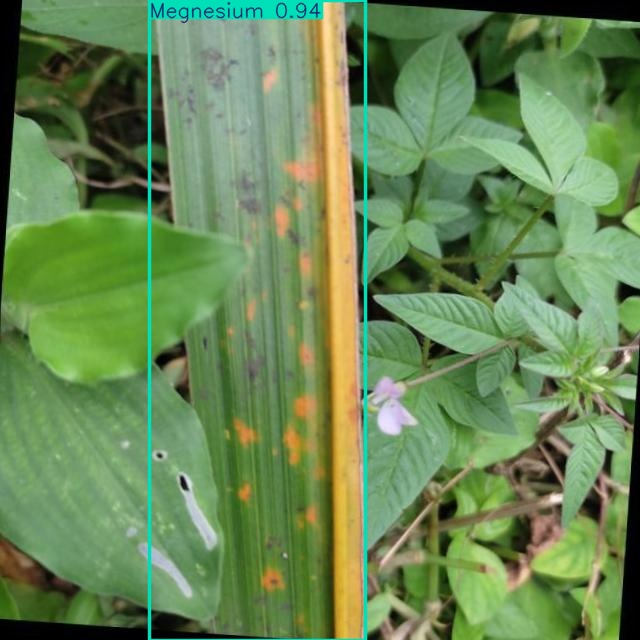Megnesium: (149, 0, 365, 640)
